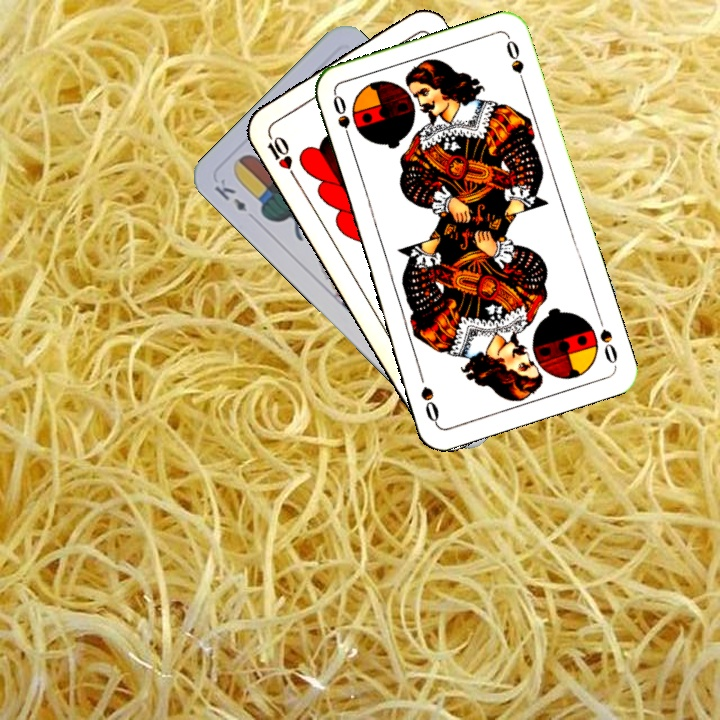EK: (210, 174, 250, 215)
H10: (263, 126, 298, 181)
SO: (593, 311, 620, 368), (329, 90, 355, 148)
